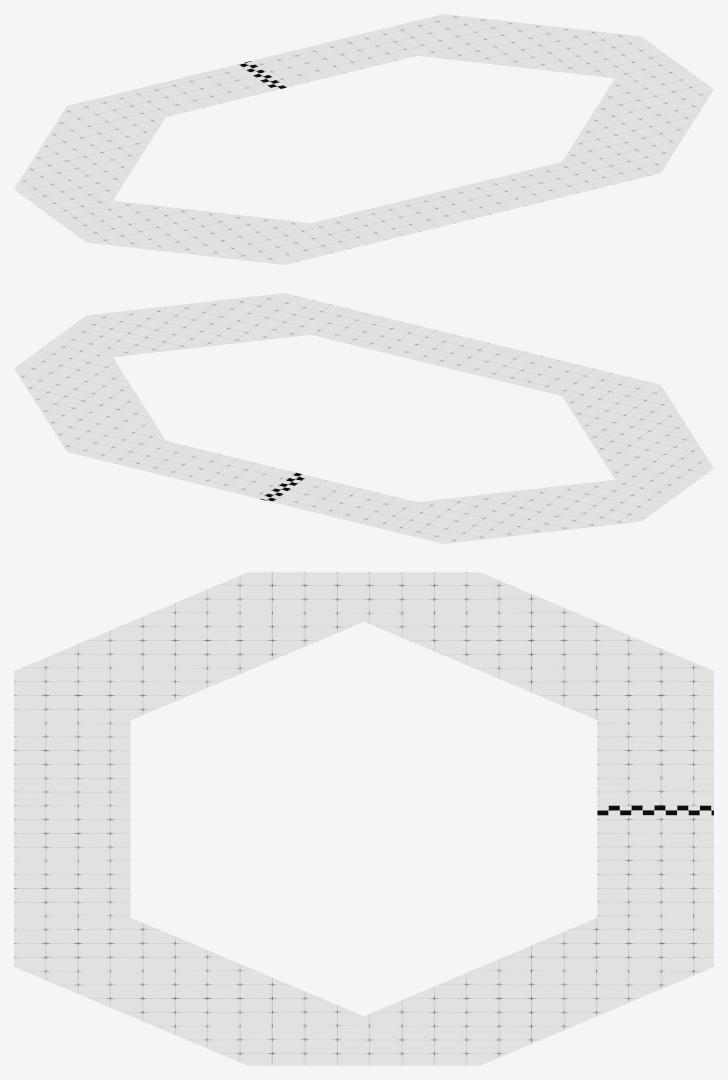
Rendered from Course_0.fbx.
3 views of the same model, one above another, from view 1: azimuth 30°, elevation 25°; view 2: azimuth 150°, elevation 25°; view 3: azimuth 270°, elevation 25° (orthographic). The views are drawn at different scales.
Visible parts, largest first — view 1: pPlane6; view 2: pPlane6; view 3: pPlane6.
Part boxes in pixels (x1,y1,x2,y2): pPlane6: (14,14,713,264); pPlane6: (14,293,713,543); pPlane6: (14,572,713,1065).
Size of the model in its own units: 16000 by 0 by 9600.
1 material, 1 textured.
